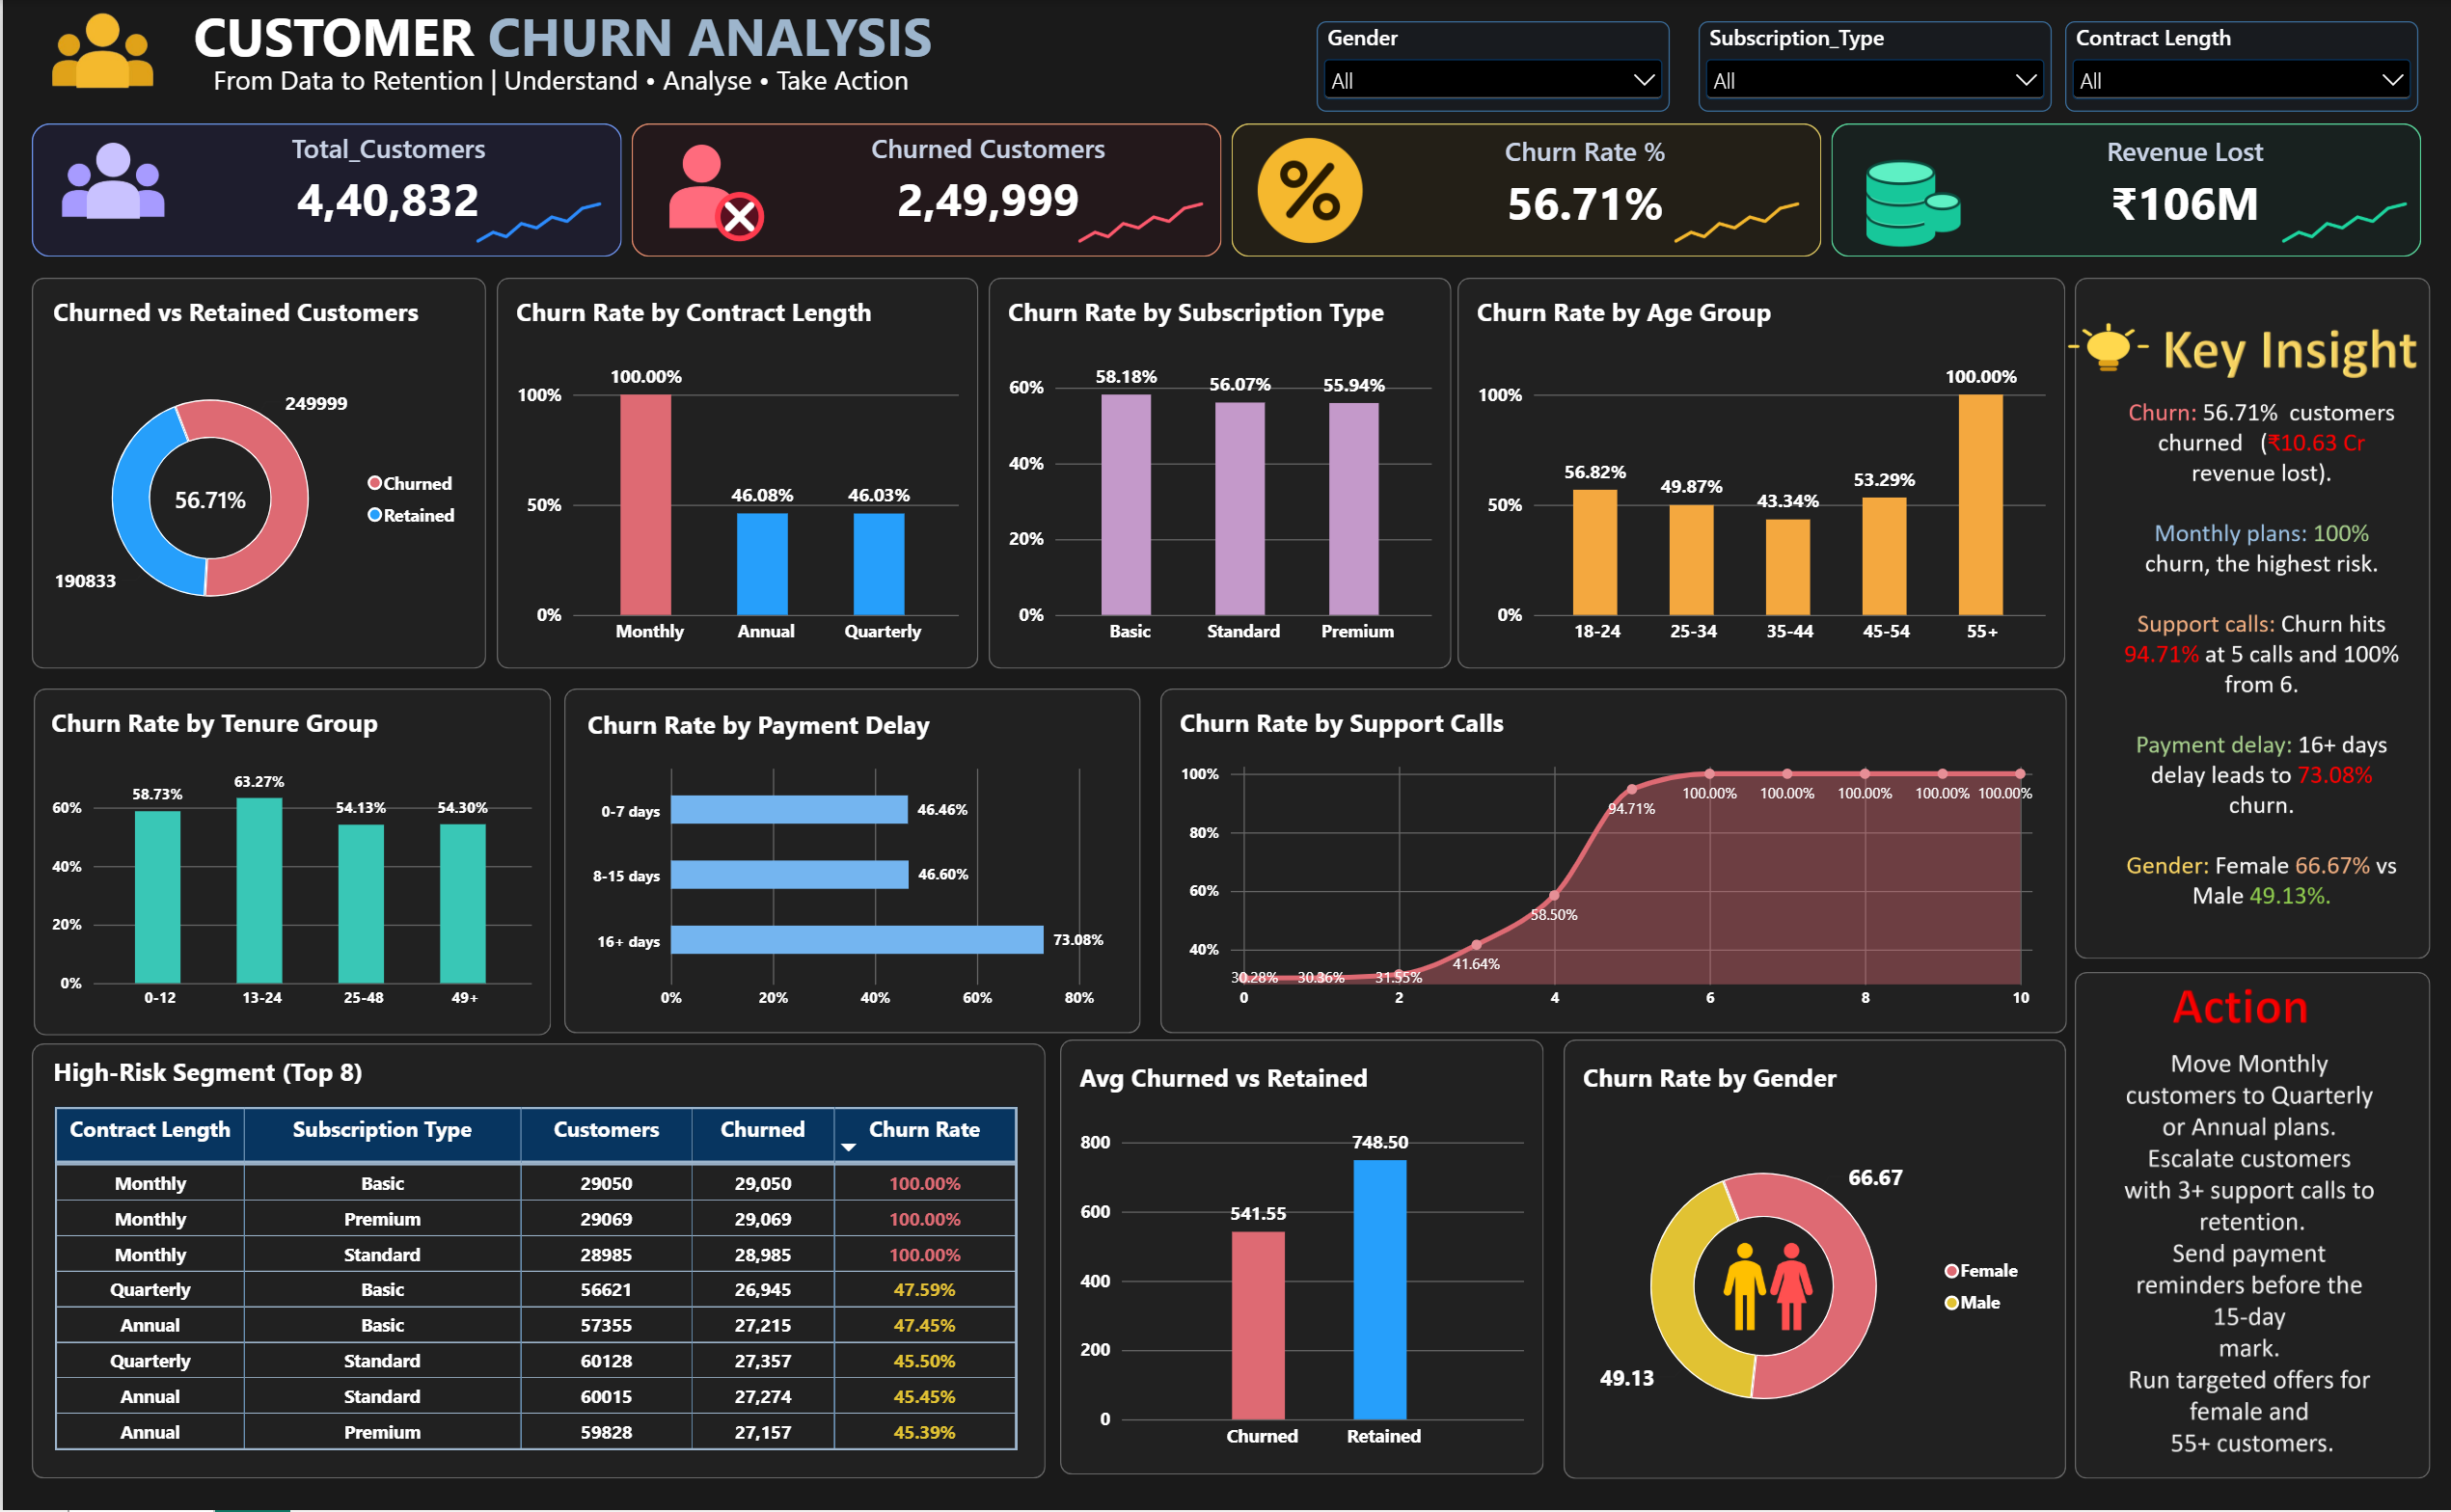

The dashboard page shown, as its layout file describes it:
{"tool":"powerbi","page":{"name":"Page 1","canvas":[2000,1212],"ordinal":0},"visuals":[{"type":"shape","box":[25.8,561.9,422.7,283.5],"z":0},{"type":"shape","box":[403.8,226.8,393.5,319.6],"z":1000},{"type":"shape","box":[24.1,226.8,371.1,319.6],"z":2000},{"type":"cardVisual","fields":{"Data":["Customer_Churn.Total_Customers","Customer_Churn.Churned Customers","Customer_Churn.Churn Rate %","Customer_Churn.Revenue Lost"]},"box":[24.1,101.4,1955.3,110],"z":3000},{"type":"image","box":[384.9,156.4,106.5,51.5],"z":4000},{"type":"textbox","box":[49.8,0,814.4,73.9],"z":5000},{"type":"textbox","box":[163.2,49.8,584.2,48.1],"z":6000},{"type":"slicer","fields":{"Values":["Customer_Churn.Gender"]},"box":[1073.9,17.2,288.7,73.9],"z":7000},{"type":"donutChart","title":"Churned vs Retained Customers","fields":{"Category":["Customer_Churn.Churn Status"],"Y":["Customer_Churn.Total_Customers"]},"box":[25.8,226.8,369.4,319.6],"z":8000},{"type":"shape","box":[945,561.9,740.5,281.8],"z":9000},{"type":"columnChart","title":"Churn Rate by Contract Length","fields":{"Category":["Customer_Churn.Contract_Length"],"Y":["Customer_Churn.Churn Rate %"]},"box":[403.8,226.8,393.5,319.6],"z":10000},{"type":"shape","box":[1692.4,226.8,290.4,556.7],"z":11000},{"type":"image","box":[0,0,163.2,97.9],"z":12000},{"type":"shape","box":[458.8,561.9,470.8,281.8],"z":13000},{"type":"lineChart","title":"Churn Rate by Support Calls","fields":{"Category":["Customer_Churn.Support_Calls"],"Y":["Customer_Churn.Churn Rate %"]},"box":[945,561.9,728.5,281.8],"z":14000},{"type":"shape","box":[24.1,852.2,828.2,355.7],"z":15000},{"type":"tableEx","title":"High-Risk Segment (Top 8)","fields":{"Values":["Customer_Churn.Contract_Length","Customer_Churn.Subscription_Type","Customer_Churn.Total_Customers","Customer_Churn.Churned Customers","Customer_Churn.Churn Rate %"]},"box":[24.8,848.5,821.4,362.9],"z":16000},{"type":"shape","box":[805.8,226.8,378,319.6],"z":17000},{"type":"shape","box":[1189,226.8,496.6,319.6],"z":18000},{"type":"shape","box":[864.3,848.8,395.2,355.7],"z":19000},{"type":"shape","box":[1274.9,848.8,410.7,359.1],"z":20000},{"type":"clusteredColumnChart","title":"Churn Rate  by Subscription Type","fields":{"Category":["Customer_Churn.Subscription_Type"],"Y":["Customer_Churn.Churn Rate %"]},"box":[805.8,226.8,378,319.6],"z":21000},{"type":"lineClusteredColumnComboChart","title":"Churn Rate  by Age Group","fields":{"Category":["Customer_Churn.Age_Group"],"Y":["Customer_Churn.Churn Rate %"]},"box":[1189,226.8,496.6,319.6],"z":22000},{"type":"image","box":[1859.1,156.4,106.5,51.5],"z":23000},{"type":"image","box":[1362.5,156.4,106.5,51.5],"z":24000},{"type":"image","box":[876.3,156.4,106.5,51.5],"z":25000},{"type":"columnChart","title":"Churn Rate by Tenure Group","fields":{"Category":["Customer_Churn.Tenure Group"],"Y":["Customer_Churn.Churn Rate %"]},"box":[24.1,561.9,424.4,281.8],"z":26000},{"type":"slicer","fields":{"Values":["Customer_Churn.Subscription_Type"]},"box":[1384.9,17.2,288.7,73.9],"z":27000},{"type":"slicer","fields":{"Values":["Customer_Churn.Contract_Length"]},"box":[1684.7,17.7,288.7,73.9],"z":28000},{"type":"clusteredBarChart","title":"Churn Rate by Payment Delay ","fields":{"Category":["Customer_Churn.Payment Delay Group"],"Y":["Customer_Churn.Churn Rate %"]},"box":[462.2,563.6,467.4,280.1],"z":29000},{"type":"columnChart","title":"Avg Churned vs Retained","fields":{"Category":["Customer_Churn.Churn Status"],"Y":["Avg(Customer_Churn.Total_Spend)"]},"box":[864.3,852.2,395.2,352.2],"z":30000},{"type":"donutChart","title":"Churn Rate by Gender","fields":{"Category":["Customer_Churn.Gender"],"Y":["Customer_Churn.Churn Rate Gender"]},"box":[1275.5,852.1,396.8,356.1],"z":31000},{"type":"image","box":[1362.3,1013.3,161.2,76.2],"z":32000},{"type":"image","box":[1683.8,226.8,297.3,556.7],"z":32001},{"type":"shape","box":[1692.4,793.8,290.4,414.1],"z":32002},{"type":"image","box":[1692.4,793.8,288.7,410.7],"z":32003}]}

Visuals, with their boxes in screenshot pixels (x1, y1, x2, y2), scaled from the page's 2000x1212 canvas onto the 2451x1512 screenshot:
shape: [32, 701, 550, 1055]
shape: [495, 283, 977, 682]
shape: [30, 283, 484, 682]
cardVisual - Customer_Churn.Total_Customers x Customer_Churn.Churned Customers: [30, 126, 2426, 263]
image: [472, 195, 602, 259]
textbox: [61, 0, 1059, 93]
textbox: [200, 62, 916, 122]
slicer - Customer_Churn.Gender: [1316, 21, 1670, 114]
"Churned vs Retained Customers" donutChart: [32, 283, 484, 682]
shape: [1158, 701, 2065, 1053]
"Churn Rate by Contract Length" columnChart: [495, 283, 977, 682]
shape: [2074, 283, 2430, 978]
image: [0, 0, 200, 122]
shape: [562, 701, 1139, 1053]
"Churn Rate by Support Calls" lineChart: [1158, 701, 2051, 1053]
shape: [30, 1064, 1045, 1507]
"High-Risk Segment (Top 8)" tableEx: [31, 1059, 1037, 1511]
shape: [988, 283, 1451, 682]
shape: [1457, 283, 2066, 682]
shape: [1059, 1059, 1543, 1502]
shape: [1563, 1059, 2066, 1507]
"Churn Rate  by Subscription Type" clusteredColumnChart: [988, 283, 1451, 682]
"Churn Rate  by Age Group" lineClusteredColumnComboChart: [1457, 283, 2066, 682]
image: [2278, 195, 2409, 259]
image: [1670, 195, 1800, 259]
image: [1074, 195, 1205, 259]
"Churn Rate by Tenure Group" columnChart: [30, 701, 550, 1053]
slicer - Customer_Churn.Subscription_Type: [1698, 21, 2051, 114]
slicer - Customer_Churn.Contract_Length: [2064, 22, 2418, 115]
"Churn Rate by Payment Delay " clusteredBarChart: [566, 703, 1139, 1053]
"Avg Churned vs Retained" columnChart: [1059, 1064, 1543, 1502]
"Churn Rate by Gender" donutChart: [1564, 1063, 2050, 1507]
image: [1670, 1264, 1867, 1360]
image: [2063, 283, 2428, 978]
shape: [2074, 990, 2430, 1507]
image: [2074, 990, 2428, 1502]
